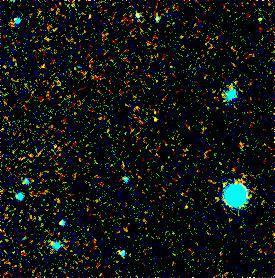star: (142, 105, 172, 135)
